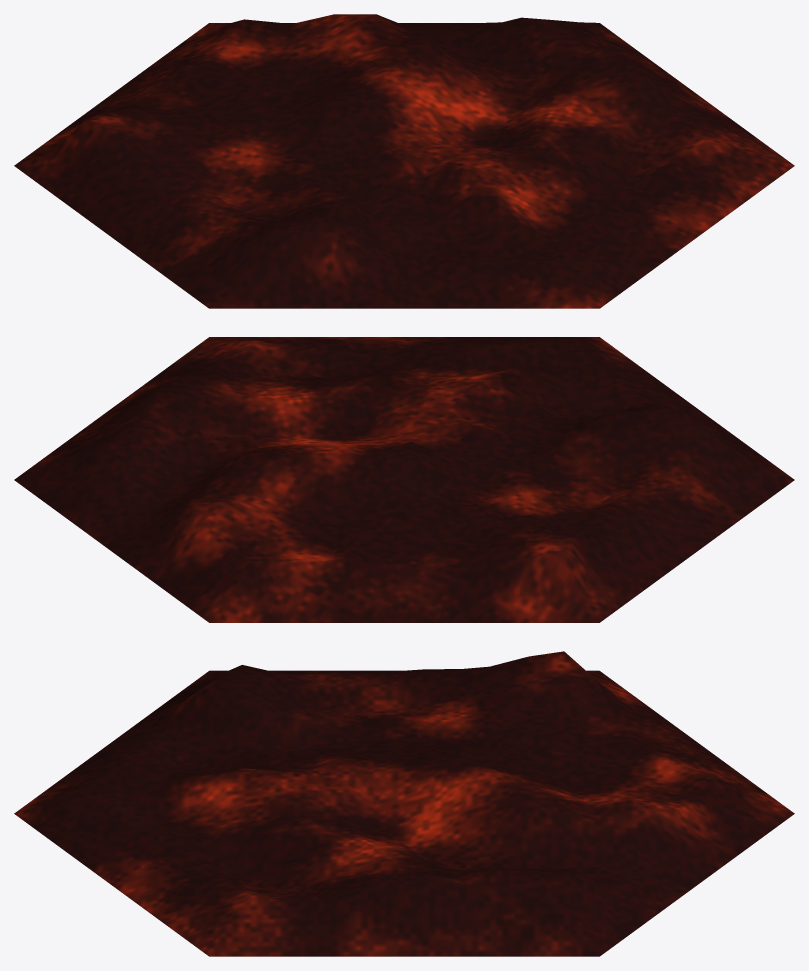
Rendered from HexSoil_s10.fbx.
The picture shows the model from 3 angles, top to bottom: view 1: azimuth 30°, elevation 25°; view 2: azimuth 150°, elevation 25°; view 3: azimuth 270°, elevation 25°; orthographic projection.
Parts seen in each view (by area): view 1: HexSoil_s10; view 2: HexSoil_s10; view 3: HexSoil_s10.
Part boxes in pixels (x1,y1,x2,y2): HexSoil_s10: (14, 14, 794, 308); HexSoil_s10: (14, 337, 794, 622); HexSoil_s10: (14, 651, 794, 956).
Size of the model in its own units: 86.6 by 7.42 by 100.
1 material, 1 textured.
